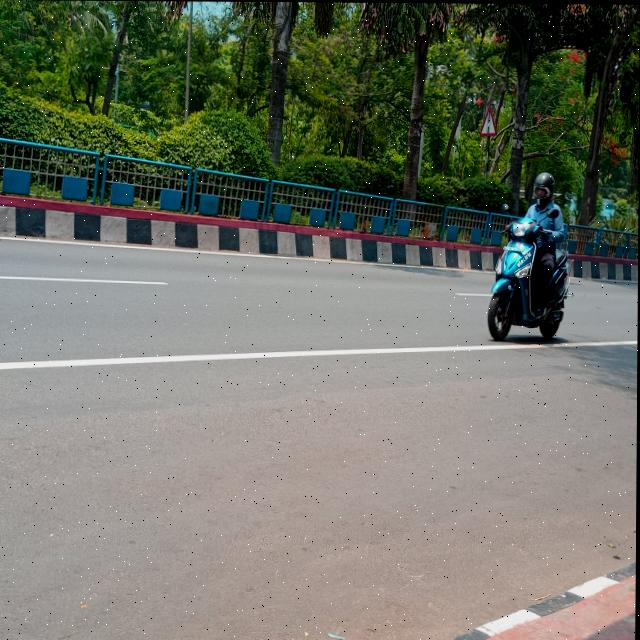bike: (482, 215, 576, 349)
